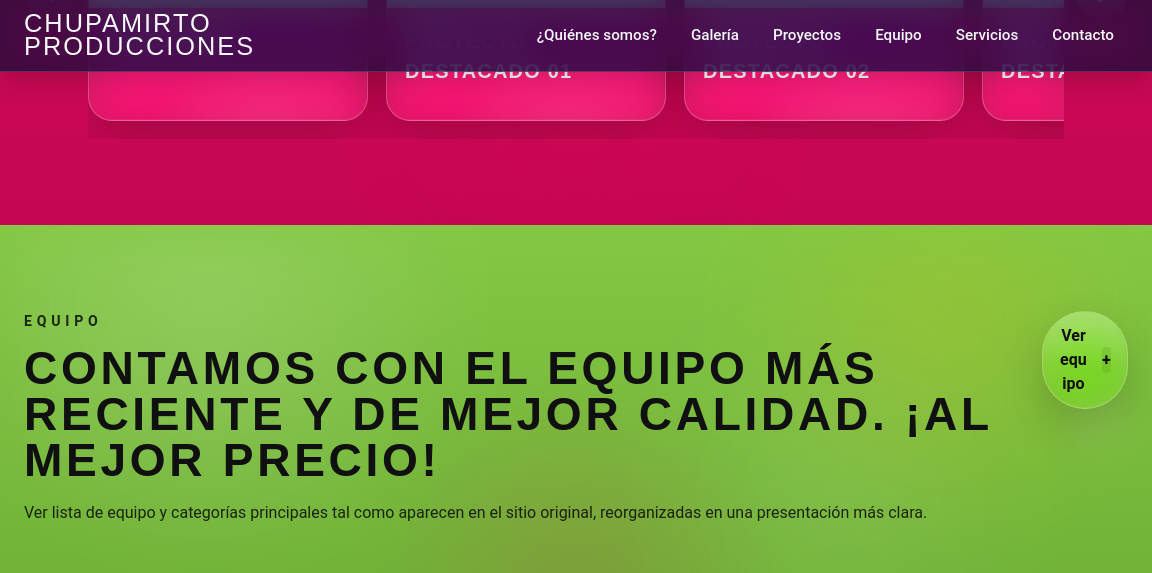
Test case: App interactions › toggles the equipment section
(page scrolled)
Click the button "Ver equipo +". click: (1085, 360)
box: [1042, 312, 1128, 410]
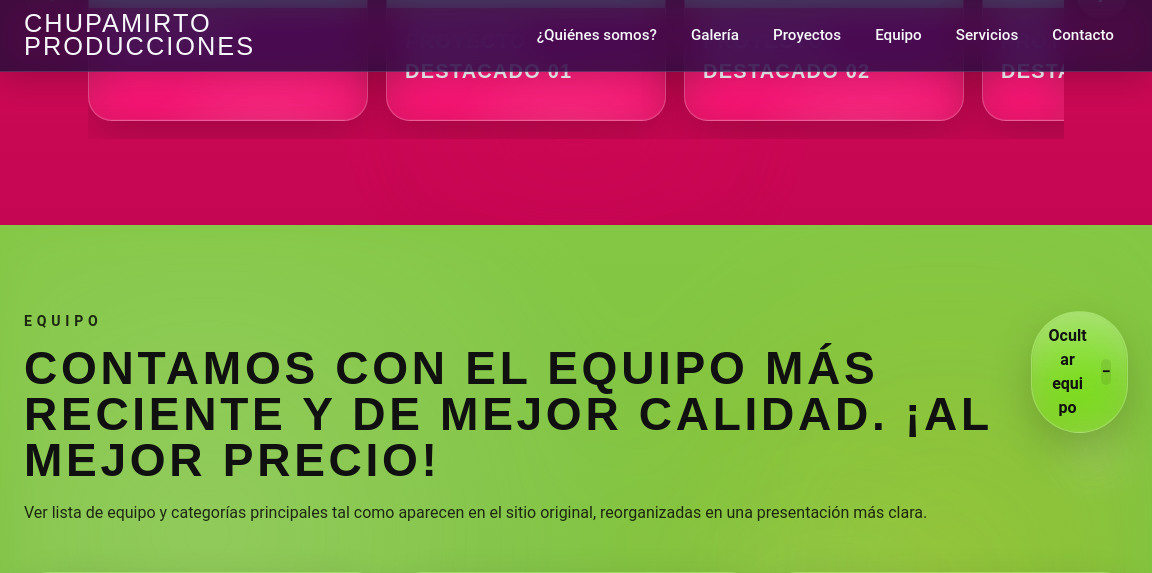
Expected: the button "Ocultar equipo −" is shown, [1031, 312, 1128, 434]
